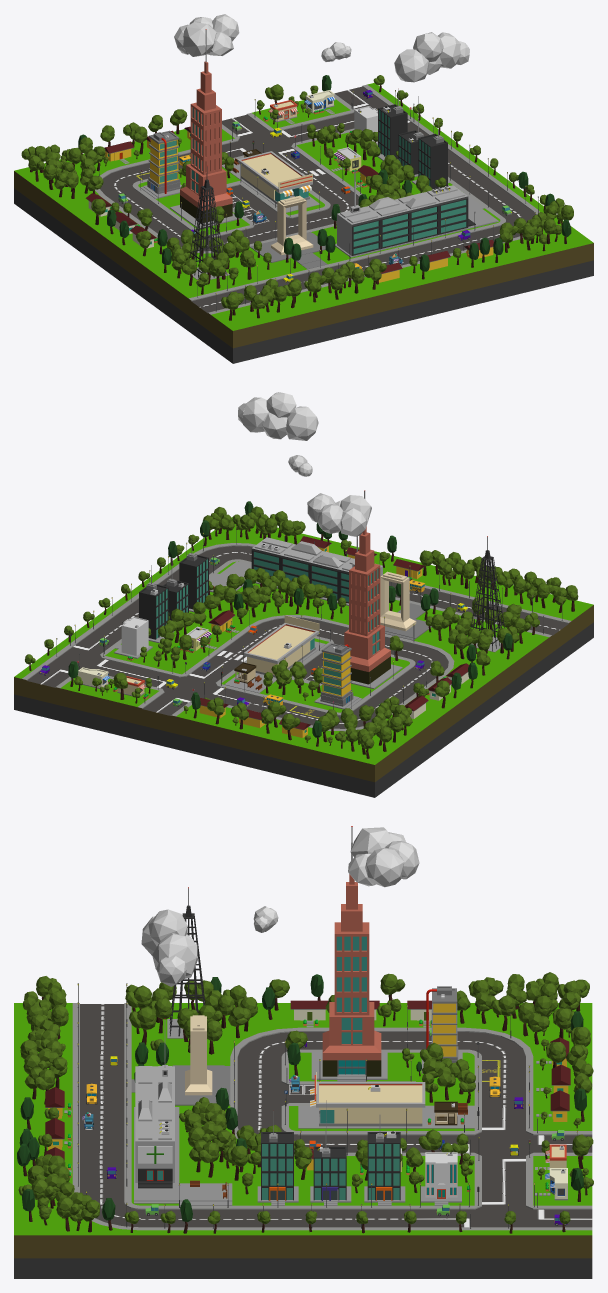
File: lowpoly_city.glb
3 views of the same model, one above another, from view 1: azimuth 30°, elevation 25°; view 2: azimuth 150°, elevation 25°; view 3: azimuth 270°, elevation 25° (orthographic). The views are drawn at different scales.
Parts seen in each view (by area): view 1: strada normale.024, Cube.033, Plane.033, Cube.021, tenda.003, Icosphere.096, curva.009, Icosphere.094, Cube.022, Cube.025, Cube.040, curva.010 (+36 smaller); view 2: strada normale.024, Cube.021, Cube.033, Plane.033, tenda.003, Icosphere.096, Icosphere.094, curva.009, Cube.022, curva.010, Cube.025, Cube.040 (+30 smaller); view 3: strada normale.024, Cube.021, tenda.003, Cube.033, Plane.033, Icosphere.094, curva.009, Icosphere.096, Cube.022, Plane.029, stop.005, base.009 (+54 smaller).
Boxes of the visible parts, x1=… form: strada normale.024: x1=14, y1=171, x2=593, y2=363; Cube.033: x1=337, y1=185, x2=475, y2=255; Plane.033: x1=211, y1=239, x2=540, y2=330; Cube.021: x1=180, y1=61, x2=232, y2=222; tenda.003: x1=222, y1=151, x2=320, y2=212; Icosphere.096: x1=394, y1=32, x2=469, y2=82; curva.009: x1=125, y1=244, x2=271, y2=298; Icosphere.094: x1=174, y1=14, x2=239, y2=56; Cube.022: x1=250, y1=195, x2=327, y2=269; Cube.025: x1=147, y1=130, x2=180, y2=193; Cube.040: x1=189, y1=165, x2=226, y2=277; curva.010: x1=14, y1=153, x2=119, y2=205; strada normale.024: x1=14, y1=605, x2=593, y2=797; Cube.021: x1=344, y1=526, x2=390, y2=684; Cube.033: x1=244, y1=537, x2=382, y2=603; Plane.033: x1=273, y1=533, x2=593, y2=620; tenda.003: x1=224, y1=615, x2=325, y2=693; Icosphere.096: x1=238, y1=392, x2=318, y2=440; Icosphere.094: x1=307, y1=493, x2=371, y2=536; curva.009: x1=429, y1=619, x2=548, y2=683; Cube.022: x1=380, y1=571, x2=431, y2=640; curva.010: x1=292, y1=725, x2=422, y2=764; Cube.025: x1=320, y1=643, x2=353, y2=706; Cube.040: x1=470, y1=536, x2=504, y2=651; strada normale.024: x1=14, y1=1235, x2=592, y2=1278; Cube.021: x1=322, y1=874, x2=381, y2=1076; tenda.003: x1=298, y1=1072, x2=474, y2=1128; Cube.033: x1=135, y1=1065, x2=174, y2=1188; Plane.033: x1=14, y1=1003, x2=72, y2=1201; Icosphere.094: x1=348, y1=827, x2=419, y2=887; curva.009: x1=131, y1=1003, x2=298, y2=1056; Icosphere.096: x1=141, y1=909, x2=197, y2=986; Cube.022: x1=131, y1=1015, x2=230, y2=1105; Plane.029: x1=140, y1=1230, x2=592, y2=1235; stop.005: x1=416, y1=1205, x2=533, y2=1230; base.009: x1=134, y1=1107, x2=232, y2=1205.
Size of the model in its own units: 94.09 by 56 by 98.68.
8 materials, 5 textured.
